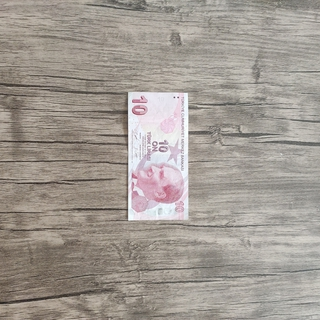10TLFront: (126, 90, 189, 221)
